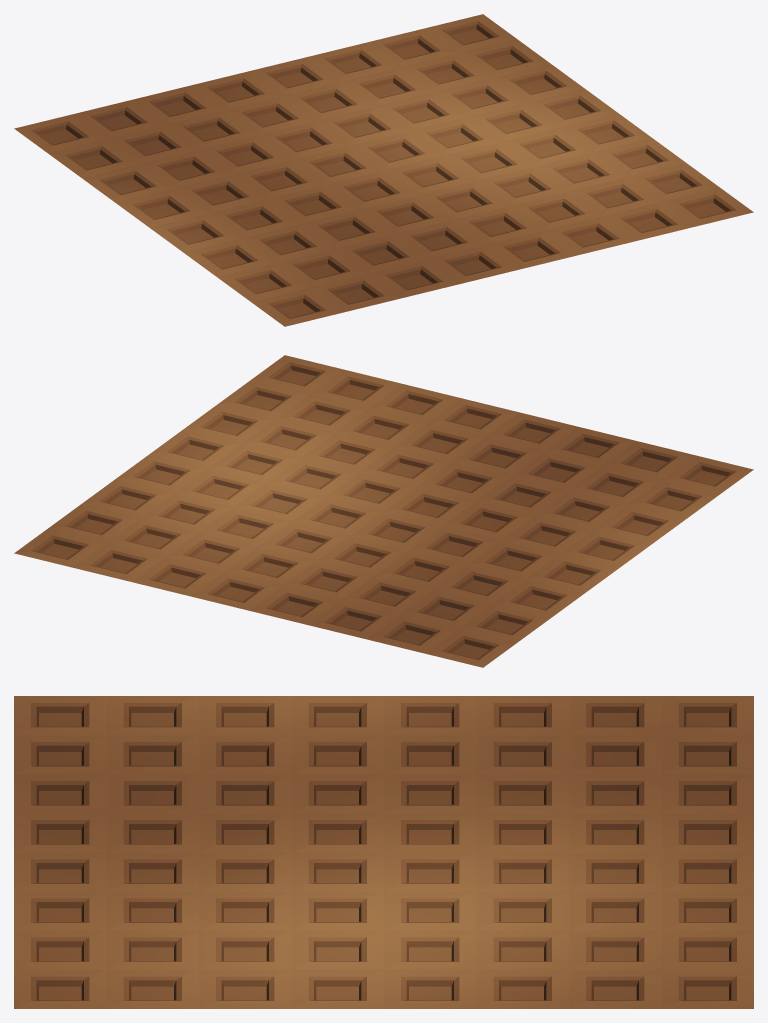
The model's file is GroundBrownTile.glb.
The picture shows the model from 3 angles, top to bottom: view 1: azimuth 30°, elevation 25°; view 2: azimuth 150°, elevation 25°; view 3: azimuth 270°, elevation 25°; orthographic projection. The views are drawn at different scales.
Visible parts, largest first — view 1: GroundBrownTile; view 2: GroundBrownTile; view 3: GroundBrownTile.
Boxes of the visible parts, x1,y1,x2,y2 form: GroundBrownTile: [14, 14, 753, 326]; GroundBrownTile: [14, 355, 753, 667]; GroundBrownTile: [14, 696, 753, 1008].
Bounding box in the file's own units: 16 × 0.16 × 16.
1 material, 1 textured.
